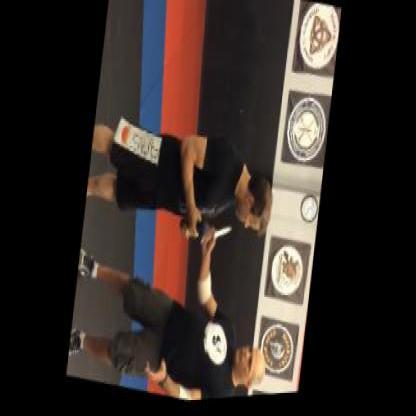knife: (200, 219, 235, 258)
